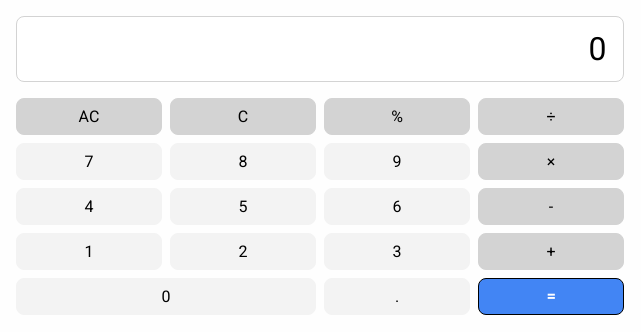
<App /> › update display when key is punched
Click the button "5". click: x=243, y=206
box: left=170, top=188, right=316, bottom=225
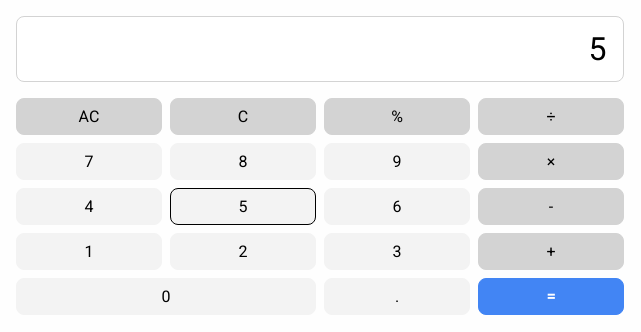
Expected: the text named "Display" reads "5", left=588, top=30, right=607, bottom=68
Click the button "+". click: x=551, y=252
box: left=478, top=233, right=624, bottom=270
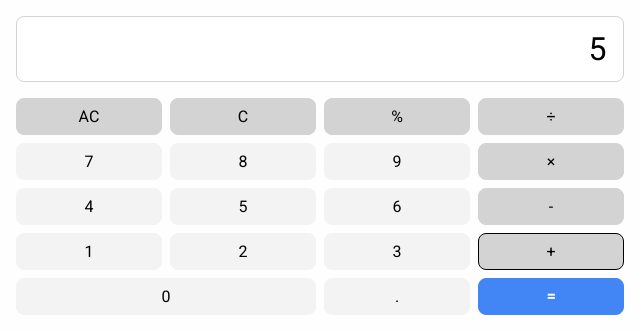
Expected: the text named "Display" reads "5", left=588, top=30, right=607, bottom=68
Click the button "3". click: x=397, y=252
box: left=324, top=233, right=470, bottom=270
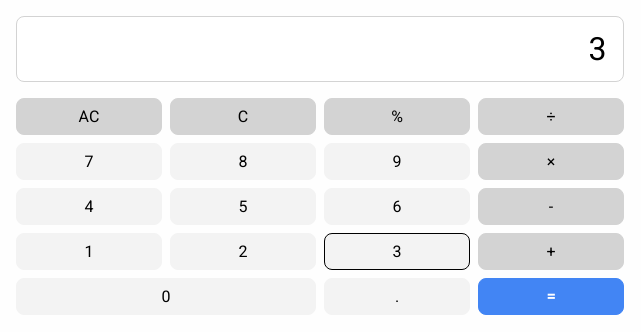
Expected: the text named "Display" reads "3", left=588, top=30, right=607, bottom=68
Click the button "=". click: x=551, y=296
box: left=478, top=278, right=624, bottom=315
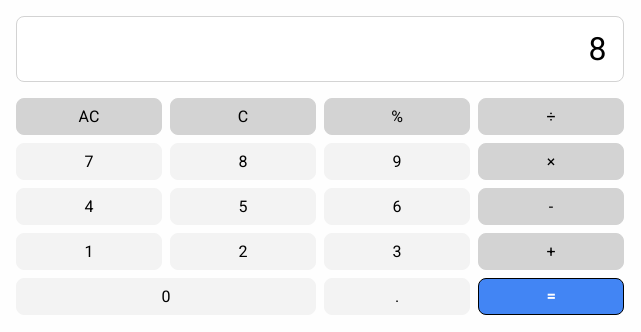
Expected: the text named "Display" reads "8", left=588, top=30, right=607, bottom=68
